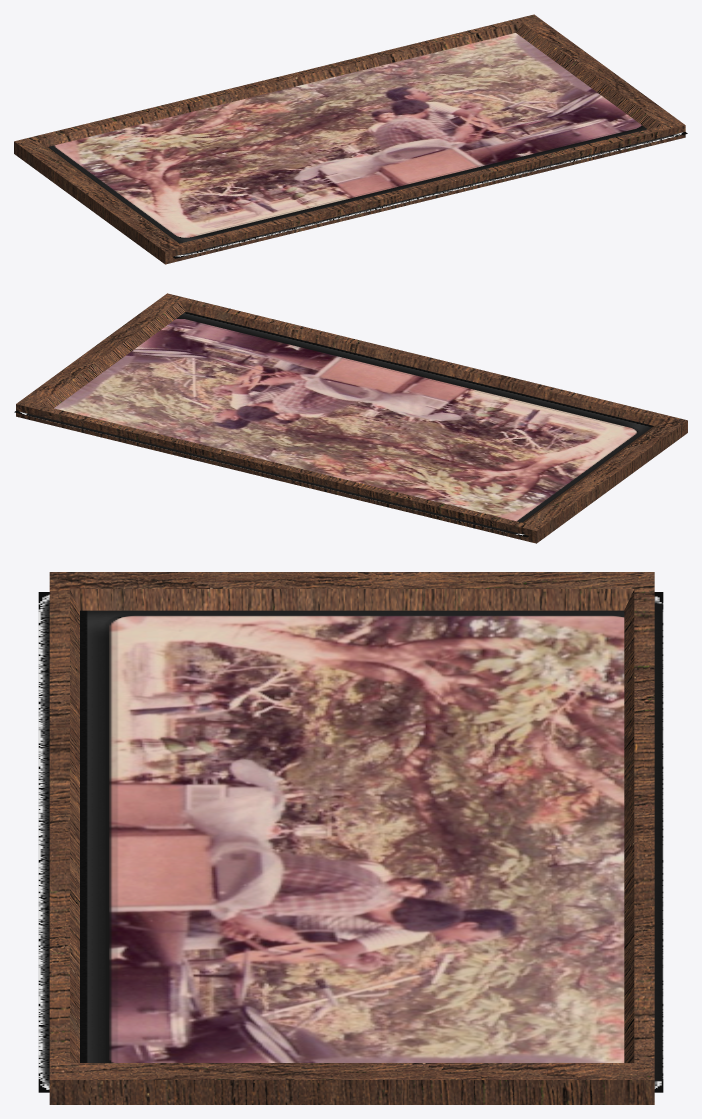
3 views of the same model, one above another, from view 1: azimuth 30°, elevation 25°; view 2: azimuth 150°, elevation 25°; view 3: azimuth 270°, elevation 25° (orthographic). The views are drawn at different scales.
Visible parts, largest first — view 1: Plane, frame1(1); view 2: Plane, frame1(1); view 3: Plane, frame1(1).
Boxes of the visible parts, box(x1,y1,x2,y2) form: Plane: box(48, 33, 687, 258); frame1(1): box(14, 14, 685, 264); Plane: box(14, 312, 653, 537); frame1(1): box(16, 293, 687, 543); Plane: box(38, 592, 663, 1092); frame1(1): box(49, 572, 654, 1104).
Size of the model in its own units: 18.6 by 0.4268 by 9.67.
Materials: 2 (2 with a texture image).
